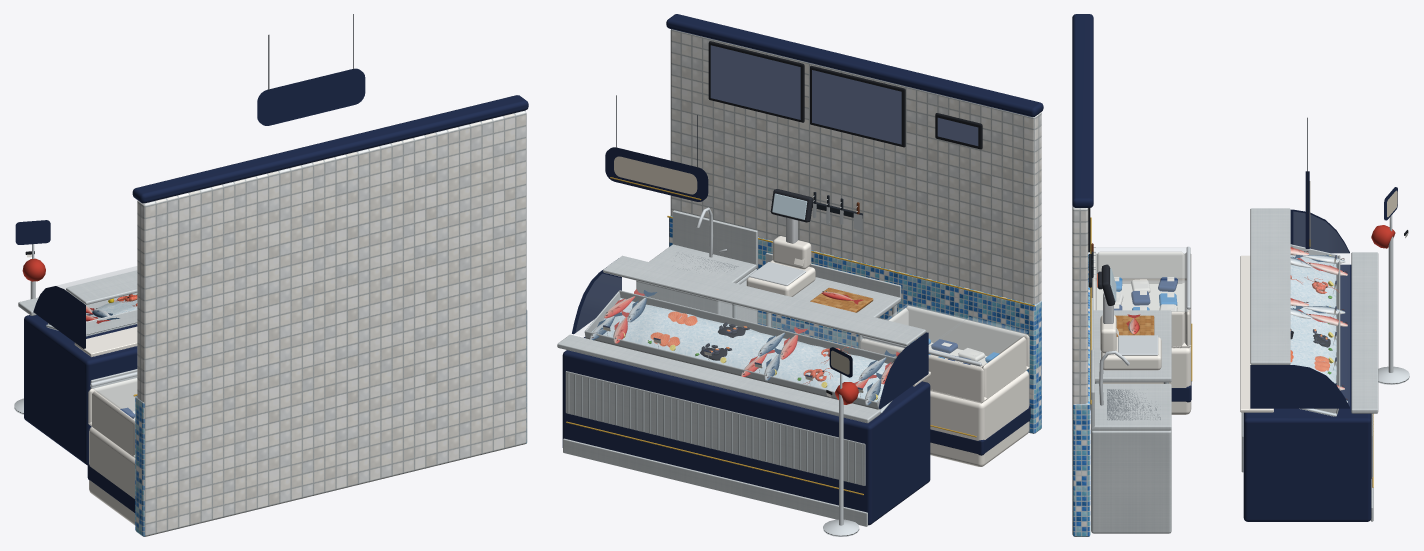
The model's file is sector-peixaria_T2.fbx.
3 renders of one model, left to right at view 1: azimuth 30°, elevation 25°; view 2: azimuth 150°, elevation 25°; view 3: azimuth 270°, elevation 25°, orthographic. The views are drawn at different scales.
Parts seen in each view (by area): view 1: Body; view 2: Body; view 3: Body.
Boxes of the visible parts, x1,y1,x2,y2 form: Body: [14, 14, 528, 536]; Body: [557, 14, 1043, 536]; Body: [1072, 14, 1409, 536].
Bounding box in the file's own units: 3.29 × 2.89 × 2.51.
